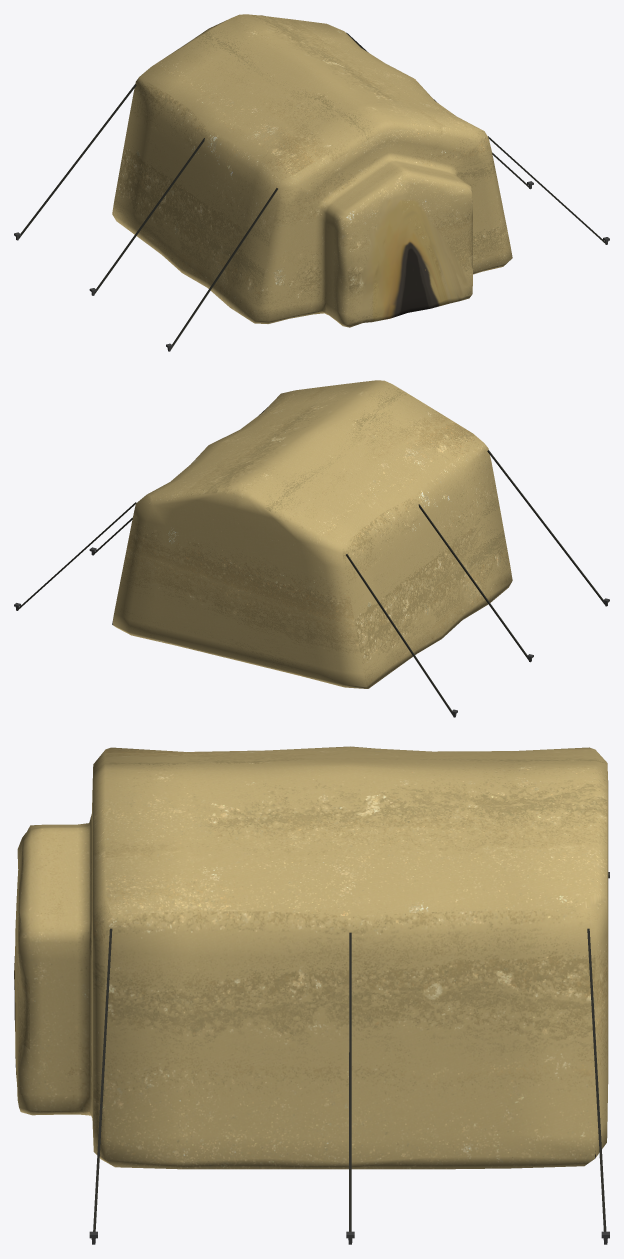
Rendered from tent.fbx.
The picture shows the model from 3 angles, top to bottom: view 1: azimuth 30°, elevation 25°; view 2: azimuth 150°, elevation 25°; view 3: azimuth 270°, elevation 25°; orthographic projection. The views are drawn at different scales.
Parts seen in each view (by area): view 1: Cube.004, Cube.003, Cube.001, Cube.002; view 2: Cube.004, Cube.002, Cube.001, Cube.003; view 3: Cube.004, Cube.002, Cube.003, Cube.001.
Part boxes in pixels (<box>): Cube.004: <box>112,14,512,327</box>; Cube.003: <box>166,136,609,351</box>; Cube.001: <box>89,99,533,295</box>; Cube.002: <box>14,32,368,240</box>; Cube.004: <box>112,380,512,688</box>; Cube.002: <box>14,502,457,717</box>; Cube.001: <box>89,504,533,662</box>; Cube.003: <box>259,407,609,606</box>; Cube.004: <box>14,746,608,1169</box>; Cube.002: <box>587,872,609,1244</box>; Cube.003: <box>89,928,112,1244</box>; Cube.001: <box>346,932,354,1244</box>.
Bounding box in the file's own units: 667 × 254 × 462.
Materials: 3 (1 with a texture image).
